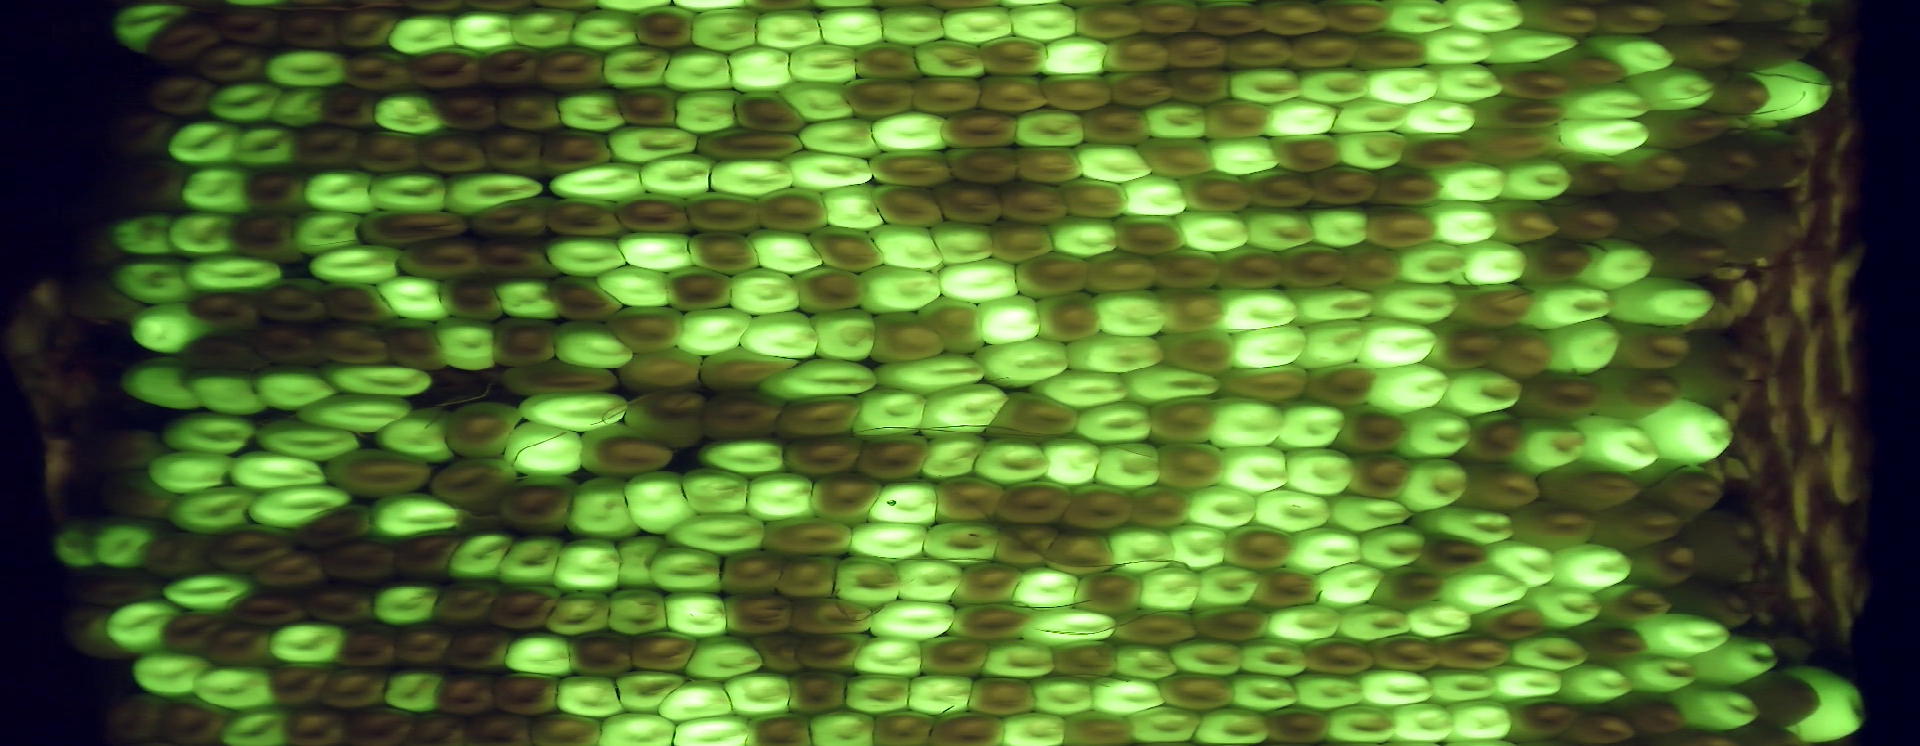fluorescent: (1638, 393, 1741, 470), (1780, 660, 1872, 746), (752, 352, 885, 409), (1622, 600, 1735, 664), (246, 409, 371, 465), (1600, 273, 1723, 330), (915, 376, 1016, 443), (1567, 408, 1665, 478), (290, 388, 424, 439), (246, 478, 359, 537), (1684, 627, 1780, 695), (560, 473, 647, 548), (1517, 274, 1625, 334), (369, 402, 459, 473), (618, 461, 700, 539), (1751, 58, 1840, 129), (869, 349, 992, 401), (1502, 412, 1596, 479), (973, 330, 1075, 391), (500, 416, 595, 481), (111, 349, 206, 414), (1351, 312, 1444, 377), (1537, 316, 1626, 382), (100, 594, 191, 659), (1667, 679, 1764, 739), (1205, 282, 1309, 338), (107, 1, 202, 62), (433, 167, 550, 217), (185, 660, 284, 719), (514, 386, 639, 432), (1060, 327, 1171, 380), (1575, 232, 1660, 299), (369, 486, 467, 545), (1435, 363, 1531, 423), (176, 249, 293, 298), (159, 479, 260, 535), (1584, 26, 1682, 83), (245, 358, 340, 416), (662, 508, 774, 559), (222, 446, 336, 495), (119, 299, 216, 356), (317, 354, 440, 399), (1360, 360, 1455, 419), (1435, 562, 1536, 617), (602, 119, 707, 171), (437, 526, 527, 587), (156, 568, 264, 619), (847, 385, 940, 443), (547, 314, 640, 372), (300, 239, 411, 288), (1026, 363, 1138, 412), (735, 306, 825, 366), (121, 646, 216, 703), (1545, 541, 1640, 599), (1118, 361, 1226, 412), (156, 407, 263, 457), (1625, 61, 1725, 115), (1551, 111, 1659, 162), (863, 219, 955, 278), (542, 157, 653, 206), (1389, 402, 1478, 462), (853, 261, 947, 318), (860, 594, 964, 646), (174, 160, 261, 222), (680, 631, 774, 687), (105, 255, 206, 307), (1217, 318, 1315, 372), (174, 364, 269, 419), (1082, 285, 1172, 344), (1206, 390, 1287, 454), (1245, 483, 1338, 539), (1269, 393, 1351, 457), (369, 269, 456, 330), (1209, 440, 1296, 500), (1233, 201, 1325, 257), (1363, 277, 1466, 327), (538, 229, 636, 282), (1016, 603, 1124, 650), (1280, 523, 1369, 581), (1551, 78, 1656, 127), (1068, 394, 1160, 450), (1411, 503, 1522, 549), (492, 529, 573, 592), (258, 42, 356, 93), (740, 467, 825, 526), (866, 103, 955, 159), (744, 223, 834, 279), (775, 147, 883, 194), (969, 434, 1059, 489), (605, 663, 696, 718), (803, 303, 882, 366), (1103, 517, 1183, 579), (1427, 156, 1518, 209), (1391, 456, 1473, 516), (696, 430, 793, 480), (792, 111, 888, 163), (1278, 443, 1362, 502), (1291, 315, 1375, 372), (549, 82, 637, 137), (431, 311, 504, 377), (702, 154, 802, 202), (142, 447, 242, 495), (1282, 281, 1382, 328), (675, 463, 758, 521), (362, 167, 456, 218), (1480, 537, 1565, 593), (160, 115, 249, 169), (82, 514, 163, 573), (662, 42, 744, 99), (1349, 663, 1439, 715), (921, 213, 1004, 269), (298, 165, 384, 219), (838, 514, 931, 565), (938, 254, 1022, 309), (1495, 149, 1580, 205), (1004, 103, 1092, 156), (672, 303, 754, 359), (1479, 26, 1587, 69), (1070, 138, 1162, 189), (264, 617, 354, 669), (1419, 58, 1509, 109), (1033, 429, 1107, 491), (725, 40, 804, 98), (890, 550, 970, 608), (1171, 206, 1258, 258), (1177, 480, 1264, 533), (645, 541, 726, 598), (637, 149, 725, 201), (651, 676, 740, 728), (100, 207, 182, 262), (1393, 236, 1476, 292), (920, 517, 1005, 570), (1324, 489, 1416, 538), (591, 261, 675, 315), (369, 85, 448, 141), (827, 552, 907, 608), (547, 534, 624, 592), (1005, 561, 1087, 615), (1041, 212, 1127, 263), (1286, 668, 1371, 719), (915, 428, 989, 486), (599, 39, 678, 94), (849, 628, 932, 681), (1451, 239, 1534, 292), (613, 225, 703, 274), (1610, 647, 1700, 696), (977, 635, 1064, 685), (1509, 627, 1596, 677), (748, 2, 829, 56), (549, 668, 629, 722), (683, 2, 768, 54), (289, 205, 366, 261), (973, 292, 1046, 352), (1420, 196, 1502, 249), (1353, 518, 1435, 571), (59, 604, 132, 663), (1085, 671, 1171, 722), (1520, 582, 1605, 632), (725, 261, 800, 318), (1166, 516, 1233, 579), (610, 529, 673, 597), (201, 76, 284, 127), (775, 78, 862, 127), (840, 669, 921, 722), (1234, 631, 1315, 684), (1297, 198, 1374, 254), (381, 9, 465, 59), (489, 269, 567, 323), (1395, 97, 1485, 143), (1258, 601, 1351, 647), (1359, 61, 1447, 109), (1221, 59, 1309, 107), (669, 86, 748, 138), (660, 586, 736, 641), (504, 2, 585, 54), (1133, 563, 1210, 617), (1164, 632, 1251, 680), (1329, 600, 1416, 648), (864, 478, 943, 530), (1258, 94, 1346, 141), (1554, 659, 1633, 710), (1095, 439, 1171, 492), (165, 205, 238, 261), (225, 120, 302, 173), (500, 626, 577, 679), (1379, 699, 1466, 746), (1183, 703, 1277, 746), (1331, 127, 1416, 175), (1187, 565, 1271, 612), (1439, 695, 1517, 746), (1311, 559, 1391, 609), (1419, 661, 1505, 708), (602, 586, 675, 641), (902, 669, 980, 720), (720, 668, 797, 719), (911, 34, 992, 83), (1112, 170, 1193, 219), (1120, 702, 1210, 746), (214, 702, 304, 746), (812, 2, 896, 49), (1484, 660, 1569, 707), (564, 5, 647, 53), (1202, 131, 1284, 179), (378, 664, 454, 715), (444, 6, 524, 55), (814, 180, 887, 234), (787, 39, 864, 89), (1109, 636, 1187, 686), (1224, 669, 1305, 717), (1141, 97, 1216, 148), (366, 579, 443, 628), (1286, 62, 1376, 104), (1320, 699, 1401, 746), (1326, 96, 1416, 137), (872, 2, 954, 48), (593, 706, 684, 746), (1004, 1, 1085, 47), (541, 589, 616, 638), (264, 78, 331, 134), (938, 1, 1018, 47), (1027, 673, 1101, 722), (1040, 32, 1116, 78), (804, 702, 883, 746), (45, 521, 107, 575), (1441, 1, 1531, 38), (1398, 599, 1477, 641), (672, 709, 760, 746), (992, 706, 1071, 746), (1379, 1, 1456, 39)
nonfluorescent: (1663, 326, 1758, 408), (320, 443, 438, 505), (1584, 490, 1689, 559), (620, 380, 715, 454), (1538, 453, 1651, 516), (1719, 186, 1806, 266), (1678, 506, 1764, 586), (424, 452, 523, 521), (573, 420, 681, 481), (1584, 361, 1686, 426), (140, 5, 229, 77), (696, 382, 795, 446), (1602, 314, 1698, 379), (196, 517, 302, 576), (981, 387, 1086, 446), (495, 469, 582, 539), (1638, 456, 1728, 523), (1731, 127, 1816, 198), (696, 344, 806, 398), (438, 394, 528, 461), (388, 230, 495, 285), (1733, 668, 1828, 729), (58, 601, 140, 673), (1509, 371, 1609, 429), (1504, 495, 1598, 556), (65, 559, 171, 612), (1444, 274, 1539, 334), (284, 495, 377, 556), (1420, 316, 1511, 379), (1325, 399, 1417, 461), (1151, 325, 1247, 383), (77, 423, 176, 479), (771, 390, 868, 447), (1725, 18, 1817, 78), (356, 201, 471, 249), (615, 343, 714, 398), (497, 358, 624, 401), (307, 314, 399, 372), (1665, 183, 1753, 244), (96, 465, 185, 526), (1667, 576, 1760, 633), (1635, 103, 1731, 158), (293, 575, 383, 633), (1674, 135, 1764, 194), (388, 523, 470, 588), (1458, 122, 1570, 170), (691, 122, 811, 167), (864, 309, 953, 369), (135, 524, 227, 582), (1297, 356, 1386, 415), (1621, 532, 1702, 597), (1456, 458, 1549, 514), (754, 512, 861, 561), (1212, 359, 1319, 408), (222, 208, 306, 269), (864, 141, 962, 194), (1540, 190, 1630, 247), (195, 616, 285, 673), (1512, 234, 1600, 292), (425, 571, 504, 635), (1643, 232, 1735, 287), (780, 429, 869, 485), (313, 533, 407, 587), (604, 300, 691, 358), (478, 579, 564, 637), (1499, 688, 1586, 746), (853, 429, 937, 489), (175, 330, 272, 381), (1145, 437, 1229, 496), (1605, 187, 1686, 249), (1456, 404, 1531, 470), (530, 40, 616, 98), (680, 186, 769, 241), (1142, 390, 1224, 450), (1652, 23, 1750, 73), (1009, 247, 1096, 304), (806, 220, 894, 276), (1150, 283, 1236, 339), (1057, 479, 1142, 535), (1550, 148, 1636, 205), (1040, 521, 1122, 579), (470, 232, 563, 283), (375, 314, 454, 374), (315, 277, 405, 330), (58, 271, 148, 323), (482, 314, 567, 370), (916, 295, 991, 359), (1031, 288, 1112, 347), (784, 590, 880, 639), (681, 225, 770, 278), (410, 40, 493, 97), (864, 179, 951, 233), (991, 477, 1078, 530), (1569, 615, 1656, 669), (1104, 606, 1205, 653), (1464, 92, 1573, 135), (153, 691, 238, 746), (247, 273, 336, 326), (929, 472, 1011, 528), (1360, 198, 1442, 255), (1010, 138, 1093, 194), (1609, 684, 1692, 739), (470, 192, 555, 246), (1343, 446, 1420, 505), (754, 184, 836, 239), (804, 469, 887, 524), (1209, 241, 1291, 296), (1296, 630, 1381, 682), (1485, 58, 1577, 107), (945, 557, 1029, 611), (609, 187, 696, 239), (989, 176, 1076, 228), (545, 269, 626, 325), (911, 631, 996, 684), (945, 599, 1041, 646), (1133, 134, 1223, 183), (1428, 628, 1518, 677), (542, 192, 631, 243), (714, 589, 802, 639), (411, 125, 493, 179), (193, 36, 276, 89), (792, 263, 871, 320), (157, 604, 235, 660), (486, 663, 564, 719), (1697, 64, 1776, 120), (1079, 247, 1164, 299), (1195, 96, 1281, 147), (475, 122, 550, 181), (1177, 167, 1256, 222), (1044, 635, 1128, 687), (793, 628, 877, 681), (1217, 522, 1300, 575), (1365, 562, 1449, 615), (1153, 669, 1240, 719), (425, 85, 506, 138), (1275, 238, 1356, 292), (1067, 567, 1151, 619), (964, 669, 1048, 720), (934, 105, 1025, 153), (729, 85, 811, 137), (989, 517, 1071, 570), (1304, 160, 1386, 213), (440, 619, 513, 677), (942, 141, 1027, 191), (847, 36, 931, 87), (249, 318, 332, 370), (535, 125, 616, 178), (1488, 196, 1569, 249), (340, 45, 418, 100), (984, 214, 1062, 269), (1109, 209, 1194, 260), (1611, 148, 1696, 198), (778, 668, 860, 719), (249, 541, 331, 593), (313, 660, 396, 712), (1416, 530, 1498, 582), (1364, 627, 1446, 679), (1236, 165, 1324, 213), (1191, 600, 1280, 648), (102, 107, 181, 159), (238, 162, 313, 217), (140, 69, 223, 119), (1332, 236, 1404, 294), (348, 125, 425, 179), (931, 176, 1008, 230), (1540, 45, 1635, 89), (475, 40, 549, 97), (1078, 99, 1160, 149), (433, 269, 508, 325), (487, 81, 567, 132), (562, 628, 638, 682), (429, 668, 504, 722), (836, 73, 920, 122), (711, 548, 789, 600), (624, 627, 705, 677), (1244, 563, 1325, 614), (289, 119, 362, 174), (1485, 325, 1559, 380), (664, 261, 738, 315), (1367, 162, 1449, 211), (971, 69, 1051, 119), (1270, 129, 1349, 179), (975, 31, 1056, 80), (99, 687, 167, 746), (126, 156, 195, 213), (907, 69, 986, 119), (1147, 246, 1226, 296), (769, 550, 844, 603), (1393, 129, 1476, 176), (1469, 600, 1551, 648), (334, 617, 400, 676), (1095, 31, 1176, 78), (1040, 69, 1120, 116), (180, 285, 264, 331), (228, 588, 310, 635), (609, 82, 684, 132), (263, 657, 336, 709), (1056, 175, 1135, 223), (273, 6, 348, 56), (1125, 481, 1196, 534), (336, 702, 420, 746), (632, 2, 700, 56), (332, 4, 405, 54), (1163, 27, 1234, 78), (389, 619, 456, 673), (1510, 1, 1607, 38), (1064, 2, 1149, 44), (1053, 708, 1145, 746), (70, 219, 129, 278), (1587, 1, 1675, 40), (211, 5, 287, 50), (276, 701, 351, 746), (1262, 699, 1336, 746), (1562, 702, 1640, 746), (922, 708, 1011, 746), (317, 77, 378, 132), (1127, 1, 1212, 40), (523, 708, 611, 746), (1098, 69, 1178, 110), (1162, 65, 1236, 109), (460, 706, 538, 746), (744, 628, 807, 677), (1191, 1, 1269, 40), (741, 708, 820, 746), (1313, 1, 1395, 38), (1255, 1, 1333, 39), (1644, 1, 1749, 29), (402, 706, 473, 746), (866, 707, 938, 746), (1727, 1, 1809, 29)
